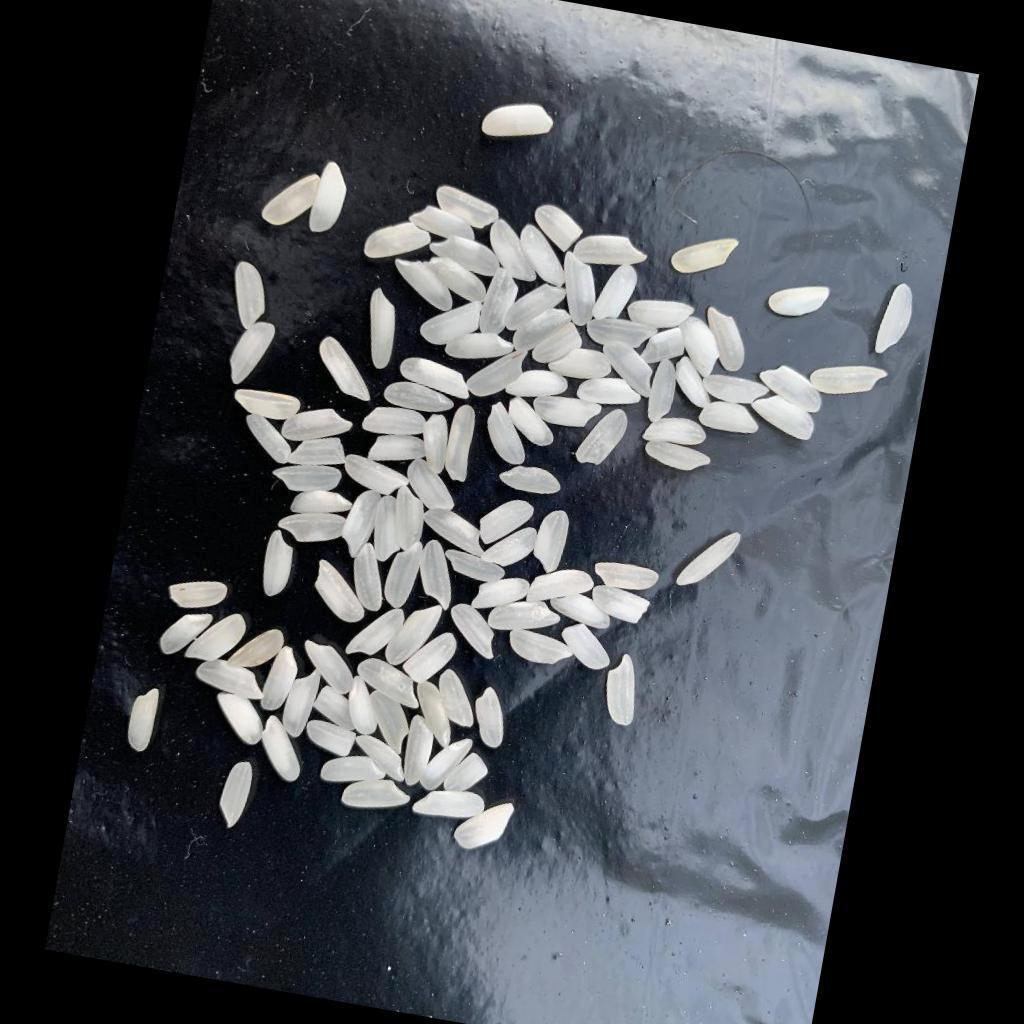rice: (676, 524, 742, 595), (313, 337, 381, 403), (384, 598, 444, 672), (309, 560, 372, 626), (483, 218, 546, 284), (465, 341, 529, 404), (554, 251, 605, 329), (261, 167, 322, 232), (453, 796, 516, 858), (504, 279, 568, 340), (418, 293, 484, 352), (354, 656, 427, 709), (185, 606, 248, 667), (515, 224, 575, 288), (388, 258, 459, 312), (809, 357, 890, 404), (596, 339, 659, 399), (419, 507, 492, 558), (226, 318, 277, 391), (420, 254, 493, 305), (345, 602, 406, 663), (756, 363, 827, 415), (281, 402, 356, 451), (256, 714, 309, 783), (576, 404, 631, 470), (526, 562, 597, 613), (697, 307, 751, 374), (402, 626, 460, 688), (297, 639, 360, 696), (671, 230, 740, 282), (397, 355, 475, 401), (418, 731, 473, 796), (487, 594, 563, 641), (572, 229, 651, 274), (482, 98, 556, 146), (427, 232, 504, 278), (512, 303, 574, 360), (747, 392, 819, 441), (360, 287, 402, 371), (364, 217, 433, 268), (482, 402, 535, 468), (361, 690, 414, 755), (308, 160, 352, 238), (194, 657, 270, 702), (409, 681, 459, 749), (672, 316, 725, 380), (339, 488, 384, 563), (477, 495, 536, 552), (445, 602, 502, 660), (433, 185, 503, 232), (415, 539, 460, 612), (478, 265, 522, 339), (210, 693, 269, 748), (156, 607, 215, 662), (601, 653, 644, 728), (227, 262, 273, 332), (342, 454, 412, 500), (412, 783, 488, 825), (227, 622, 286, 676), (592, 262, 641, 327), (348, 542, 392, 614), (276, 506, 348, 550), (875, 283, 917, 358), (281, 666, 323, 741), (558, 621, 618, 673), (239, 413, 298, 465), (270, 457, 343, 499), (382, 538, 424, 611), (341, 774, 413, 816), (504, 396, 562, 448), (584, 314, 659, 354), (444, 326, 516, 367), (433, 669, 483, 728), (767, 278, 831, 324), (261, 644, 303, 714), (351, 736, 412, 784), (442, 404, 479, 483), (531, 204, 587, 256), (408, 204, 479, 245), (481, 521, 538, 572), (506, 628, 576, 669), (531, 318, 586, 370), (531, 507, 572, 576), (320, 749, 389, 790), (471, 572, 532, 618), (370, 494, 410, 564), (469, 685, 512, 750), (533, 393, 604, 432), (548, 344, 615, 385), (383, 380, 457, 417), (625, 294, 695, 333), (361, 403, 429, 443), (576, 372, 645, 411), (548, 589, 615, 629), (390, 486, 430, 553), (642, 412, 710, 451), (589, 584, 652, 626), (671, 356, 719, 411), (401, 715, 437, 788), (218, 759, 255, 830), (506, 366, 571, 406), (259, 530, 296, 600), (167, 575, 230, 616), (344, 675, 385, 736), (288, 431, 349, 472), (233, 387, 302, 423), (368, 429, 430, 469), (644, 440, 714, 475), (593, 560, 661, 596), (699, 373, 770, 407), (312, 685, 362, 733), (699, 399, 762, 437), (126, 686, 161, 754), (645, 358, 680, 426), (443, 549, 509, 585), (289, 487, 355, 523), (499, 461, 565, 496), (417, 413, 453, 477), (444, 750, 491, 797), (304, 719, 358, 758)
